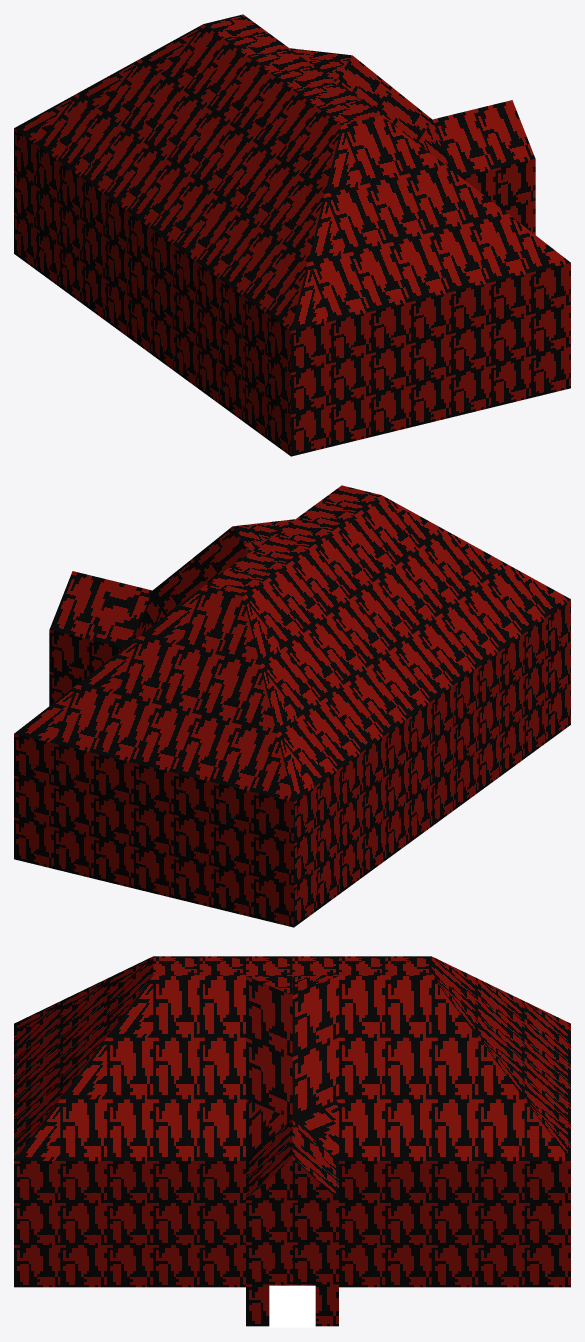
The model's file is cave.glb.
The picture shows the model from 3 angles, top to bottom: view 1: azimuth 30°, elevation 25°; view 2: azimuth 150°, elevation 25°; view 3: azimuth 270°, elevation 25°; orthographic projection.
Visible parts, largest first — view 1: Plane; view 2: Plane; view 3: Plane.
Part boxes in pixels (x1,y1,x2,y2): Plane: (14, 14, 570, 456); Plane: (14, 485, 570, 927); Plane: (14, 956, 570, 1327).
Size of the model in its own units: 14.5 by 9.6 by 19.2.
3 materials, 1 textured.
